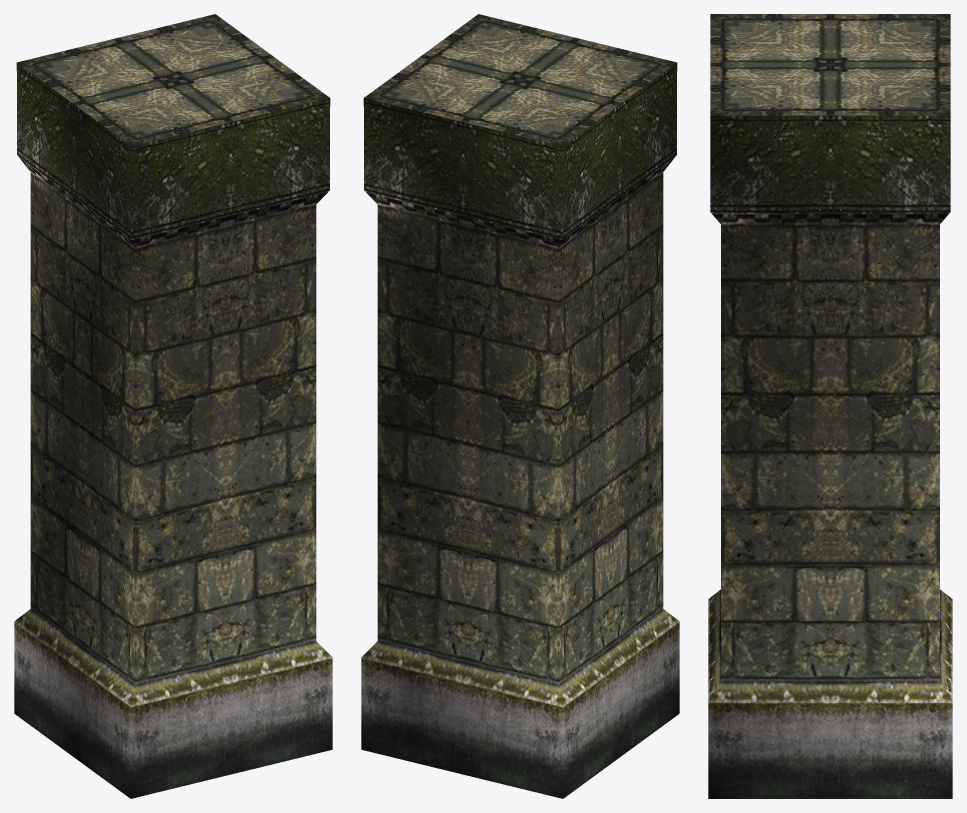
The model's file is beam.glb.
The picture shows the model from 3 angles, left to right: view 1: azimuth 30°, elevation 25°; view 2: azimuth 150°, elevation 25°; view 3: azimuth 270°, elevation 25°; orthographic projection. The views are drawn at different scales.
Visible parts, largest first — view 1: column_big; view 2: column_big; view 3: column_big.
Boxes of the visible parts, x1,y1,x2,y2 form: column_big: (14,14,332,798); column_big: (361,14,679,798); column_big: (708,14,952,798).
Bounding box in the file's own units: 0.9724 × 3 × 0.9724.
Materials: 1 (1 with a texture image).
